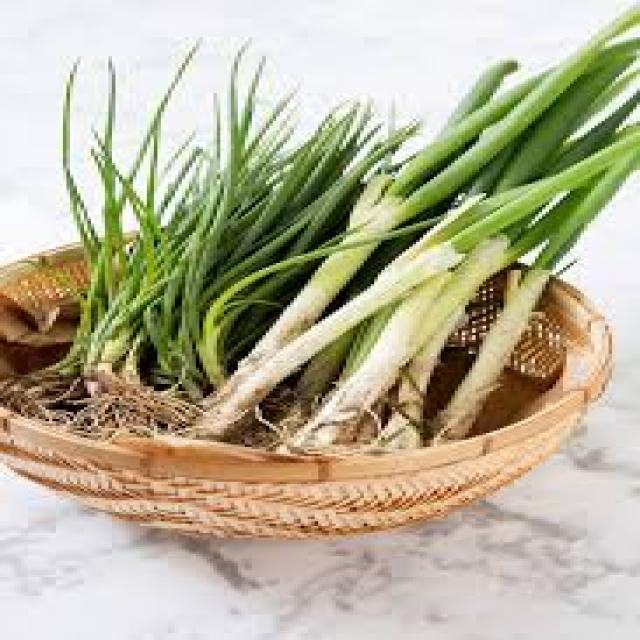spring_onion: (196, 46, 633, 458)
